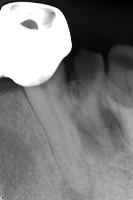Furcation Involvement: (73, 105, 122, 162)
